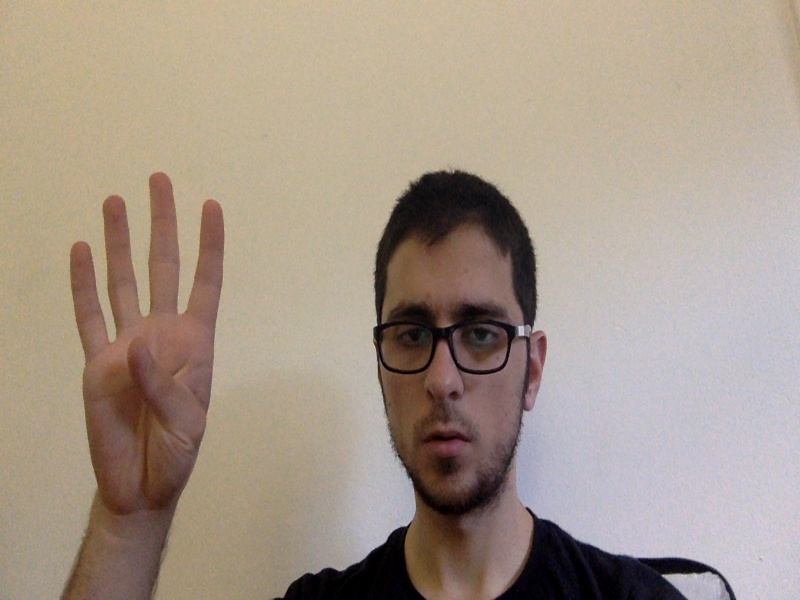4-hand: (69, 173, 225, 517)
